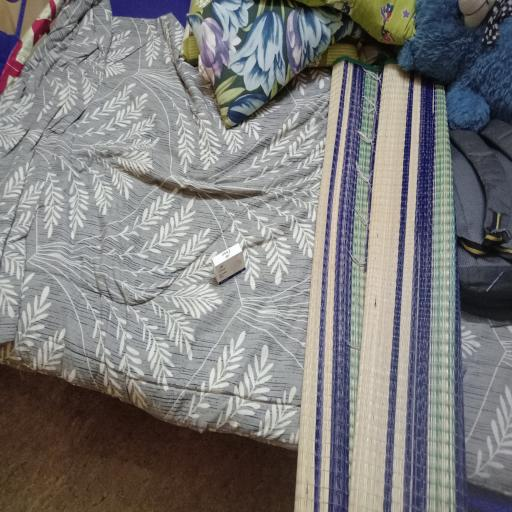Dove`1: (204, 242, 255, 289)
